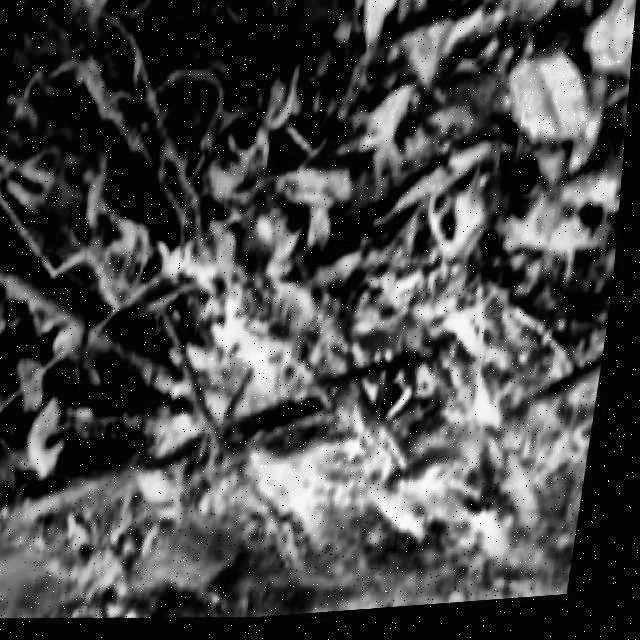Fire: (179, 314, 591, 589)
